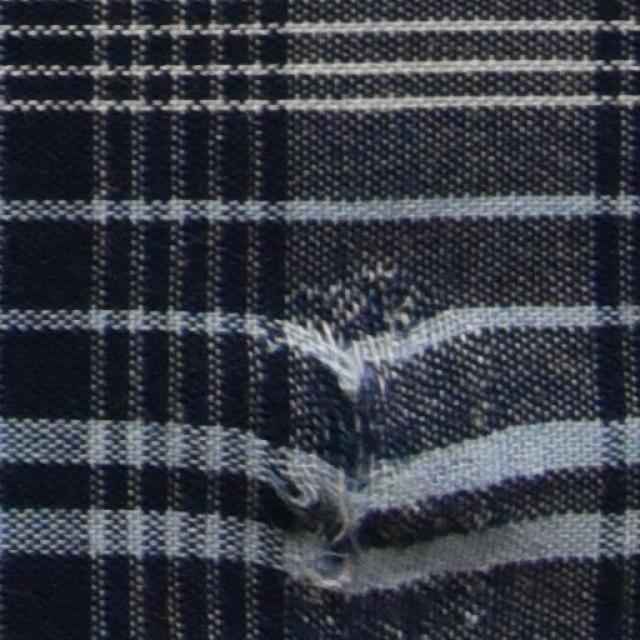Snag: (286, 295, 384, 596)
